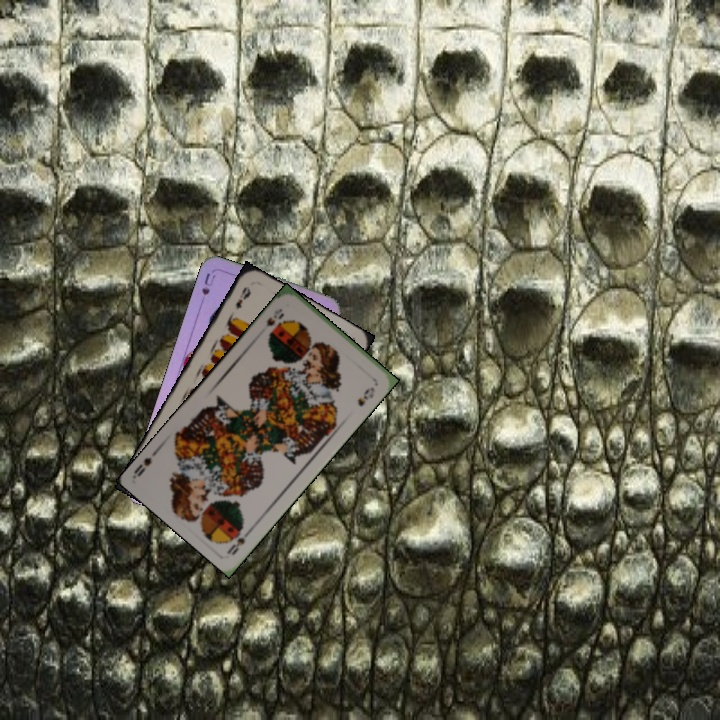E9: (231, 282, 253, 312)
SO: (223, 523, 256, 558), (262, 304, 287, 338)
SU: (198, 269, 218, 298)
